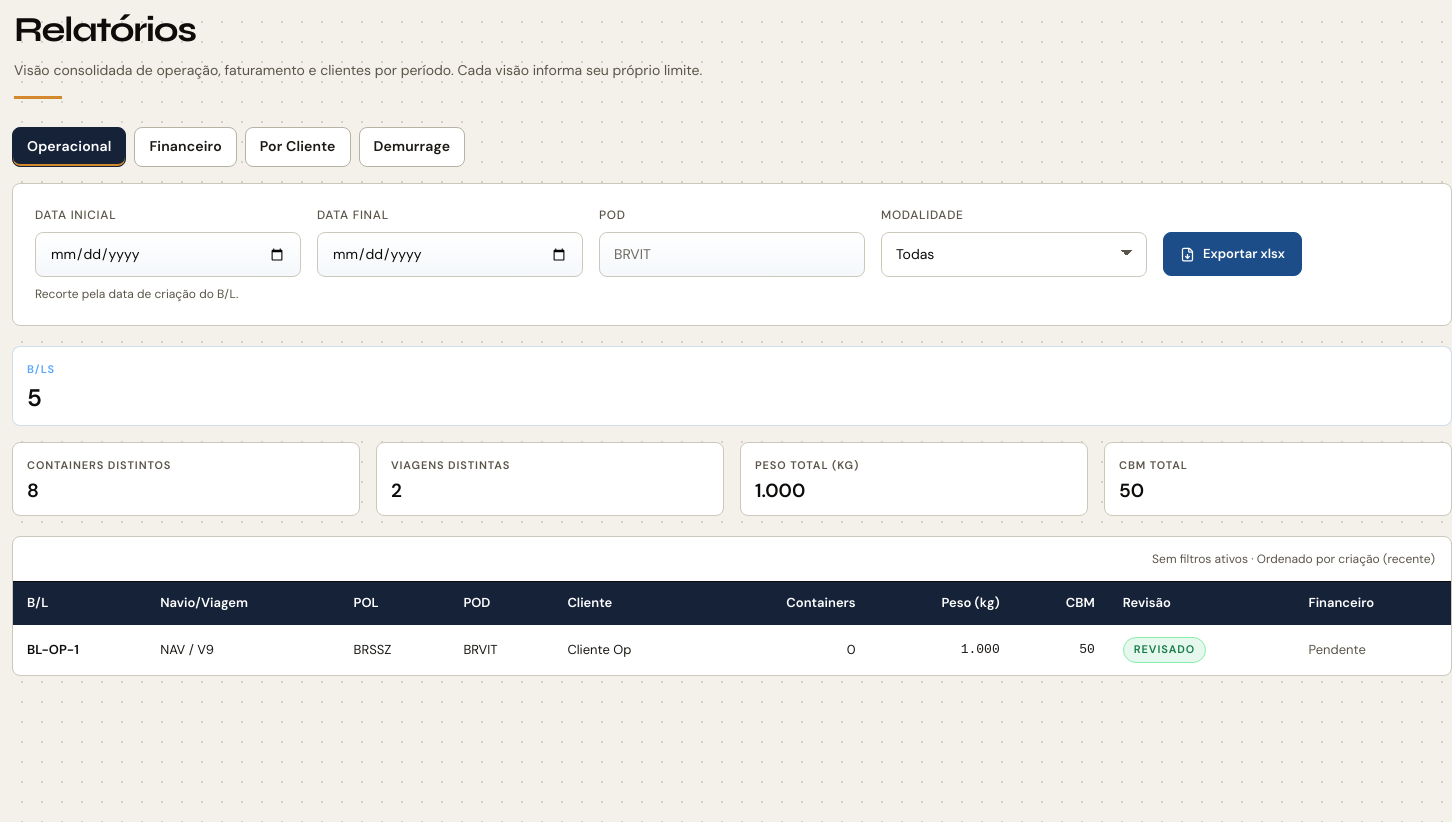
Test case: US-142: consulta demurrage lista as invoices do periodo
Click the tab "Demurrage": (412, 147) top-left (358, 127), bottom-right (465, 167)
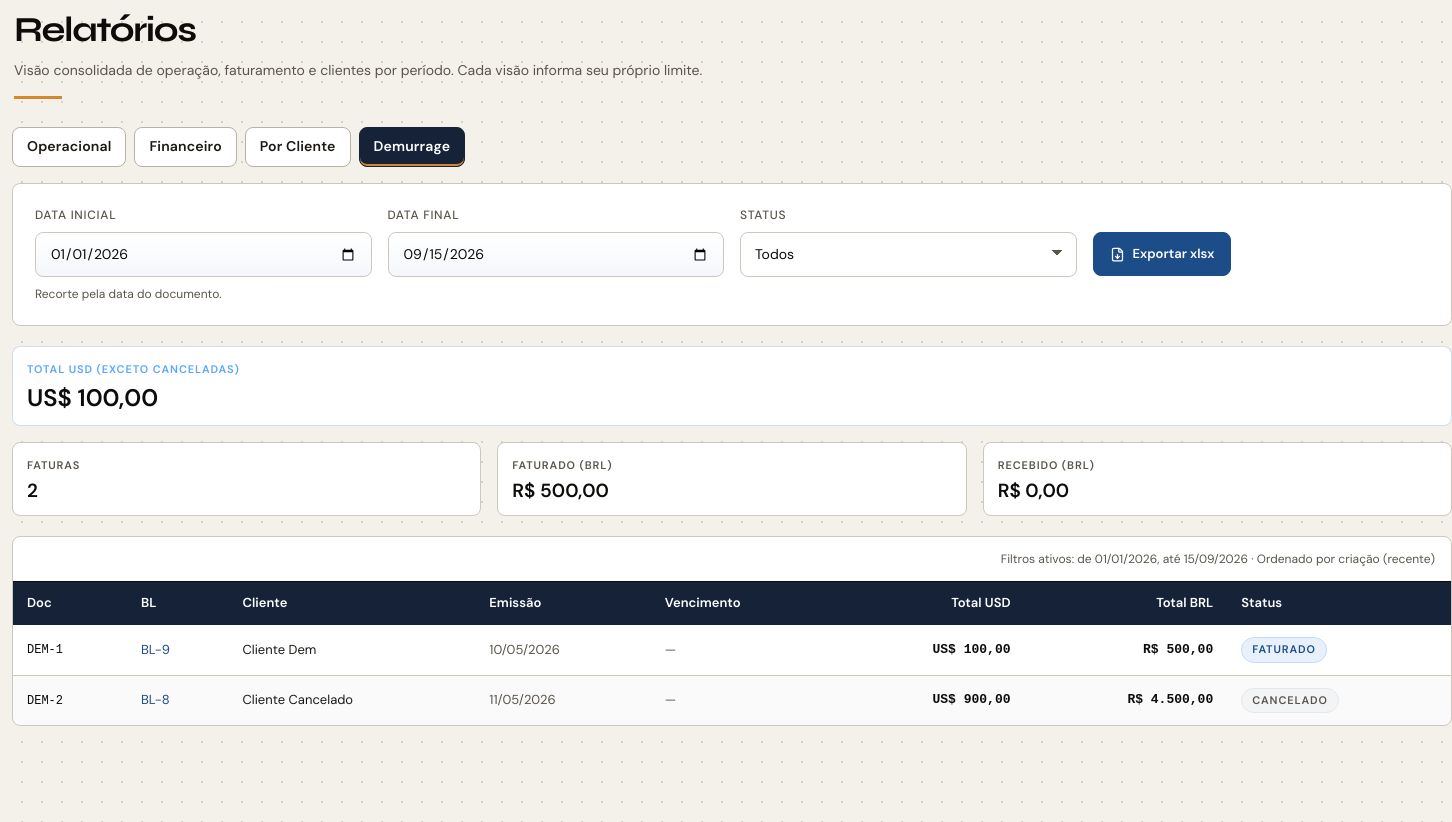
Check: the text "DEM-1" is shown, box top-left (13, 625), bottom-right (127, 675)
Check: the text "BL-9" is shown, box top-left (127, 625), bottom-right (228, 675)
Check: the text "Cliente Dem" is shown, box top-left (228, 625), bottom-right (475, 675)
